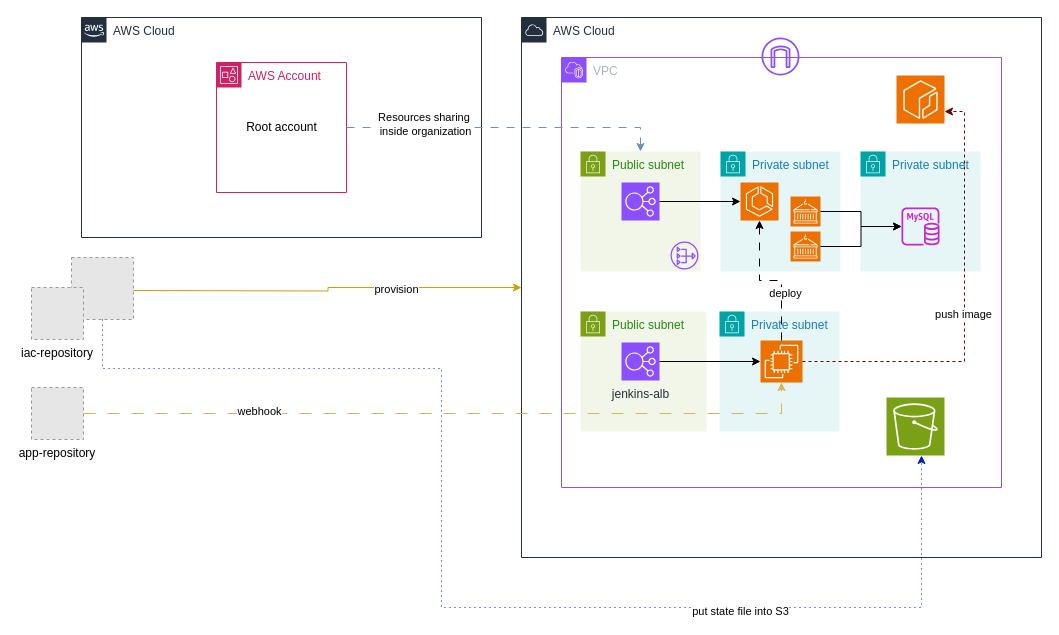
Some shapes in this 1059 by 635 pixel diagram are drawn without their labels. Grey dashed boxes stand in for pictures. Each missing label, with the centre of its shape:
app-alb: [640,201]
app-cluster: [759,201]
jenkins-instance: [781,361]
registry: [920,99]
state-bucket: [915,426]
